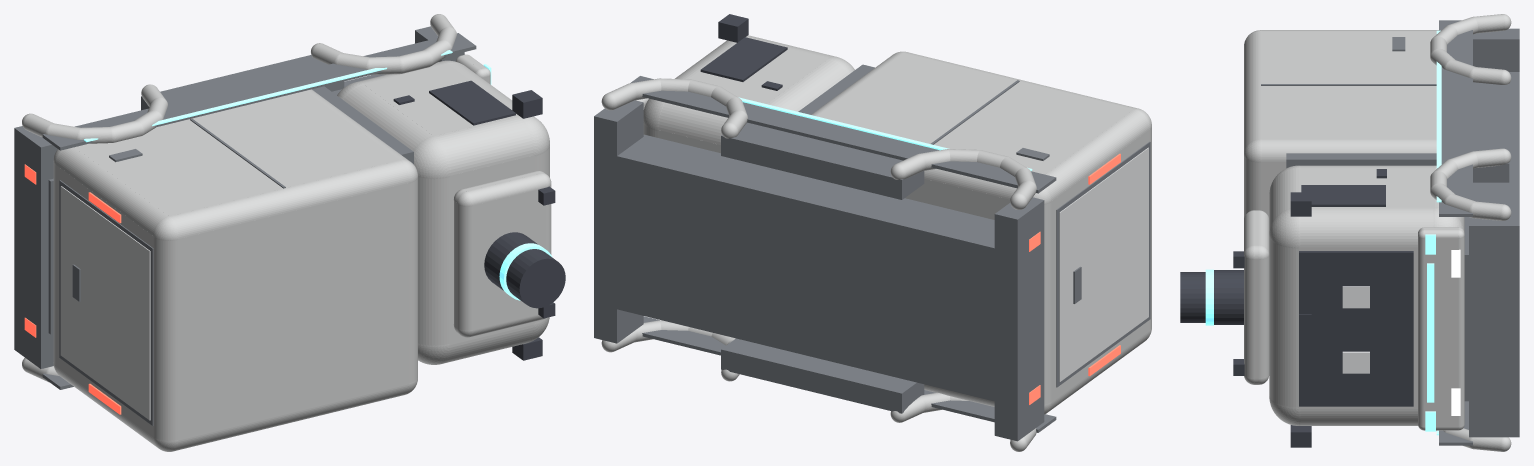
The model's file is vehicle.glb.
3 views of the same model, side by side, from view 1: azimuth 30°, elevation 25°; view 2: azimuth 150°, elevation 25°; view 3: azimuth 270°, elevation 25° (orthographic). The views are drawn at different scales.
Parts seen in each view (by area): view 1: cargo_z_visual, cargo_y_visual, rear_door_visual, rear_bumper_visual, cab_edge5_visual, cargo_edge3_visual, roof_pod_z_visual, cargo_edge5_visual, side_band_left_visual, cab_edge3_visual, cab_y_visual, cargo_edge9_visual (+27 smaller); view 2: chassis_core_visual, cargo_y_visual, rear_door_visual, rear_bumper_visual, side_skirt_left_visual, side_skirt_right_visual, front_bumper_visual, side_band_left_visual, cargo_edge9_visual, cargo_x_visual, cab_y_visual, side_band_right_visual (+17 smaller); view 3: cargo_y_visual, windshield_visual, front_bumper_visual, cab_edge11_visual, cab_edge7_visual, cab_nose_x_visual, side_band_left_visual, cab_y_visual, chassis_core_visual, side_skirt_left_visual, cargo_edge11_visual, cab_edge10_visual (+37 smaller).
Boxes of the visible parts, x1=… form: cargo_z_visual: x1=178, y1=183, x2=408, y2=440; cargo_y_visual: x1=74, y1=91, x2=399, y2=216; rear_door_visual: x1=60, y1=186, x2=150, y2=420; rear_bumper_visual: x1=14, y1=126, x2=57, y2=368; cab_edge5_visual: x1=413, y1=136, x2=450, y2=364; cargo_edge3_visual: x1=153, y1=159, x2=417, y2=240; roof_pod_z_visual: x1=472, y1=189, x2=545, y2=330; cargo_edge5_visual: x1=153, y1=216, x2=178, y2=451; side_band_left_visual: x1=42, y1=33, x2=476, y2=150; cab_edge3_visual: x1=413, y1=116, x2=549, y2=178; cab_y_visual: x1=363, y1=63, x2=518, y2=136; cargo_edge9_visual: x1=53, y1=147, x2=178, y2=240; chassis_core_visual: x1=601, y1=134, x2=1009, y2=404; cargo_y_visual: x1=817, y1=53, x2=1133, y2=174; rear_door_visual: x1=1059, y1=147, x2=1148, y2=381; rear_bumper_visual: x1=994, y1=197, x2=1044, y2=441; side_skirt_left_visual: x1=721, y1=122, x2=924, y2=199; side_skirt_right_visual: x1=721, y1=338, x2=924, y2=413; front_bumper_visual: x1=594, y1=100, x2=643, y2=343; side_band_left_visual: x1=630, y1=76, x2=1056, y2=193; cargo_edge9_visual: x1=1033, y1=108, x2=1151, y2=204; cargo_x_visual: x1=1051, y1=129, x2=1149, y2=402; cab_y_visual: x1=688, y1=49, x2=828, y2=103; side_band_right_visual: x1=642, y1=316, x2=1056, y2=432; cargo_y_visual: x1=1261, y1=31, x2=1436, y2=139; windshield_visual: x1=1299, y1=251, x2=1413, y2=406; front_bumper_visual: x1=1469, y1=215, x2=1519, y2=437; cab_edge11_visual: x1=1269, y1=207, x2=1464, y2=247; cab_edge7_visual: x1=1269, y1=208, x2=1300, y2=425; cab_nose_x_visual: x1=1424, y1=238, x2=1458, y2=426; side_band_left_visual: x1=1439, y1=20, x2=1472, y2=216; cab_y_visual: x1=1299, y1=168, x2=1434, y2=207; chassis_core_visual: x1=1464, y1=72, x2=1519, y2=401; side_skirt_left_visual: x1=1473, y1=82, x2=1509, y2=182; cargo_edge11_visual: x1=1244, y1=139, x2=1436, y2=161; cab_edge10_visual: x1=1269, y1=396, x2=1417, y2=425.
Size of the model in its own units: 2.23 by 1.28 by 1.6.
